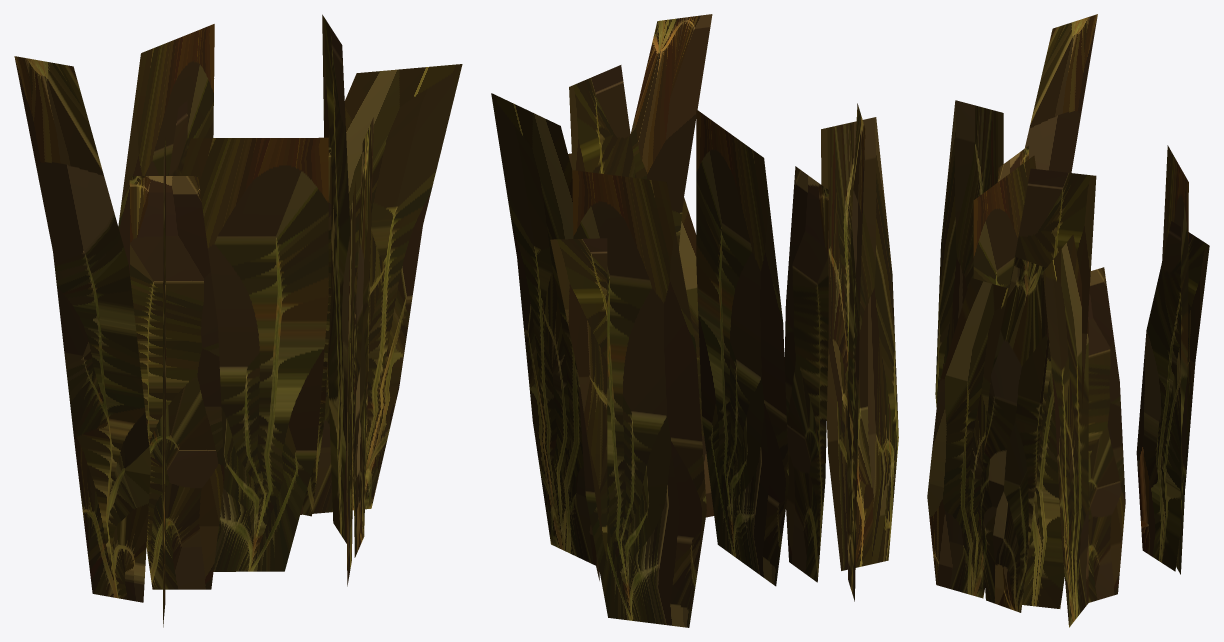
File: meadow_grass_001_b_LOD2.gltf
3 renders of one model, left to right at view 1: azimuth 30°, elevation 25°; view 2: azimuth 150°, elevation 25°; view 3: azimuth 270°, elevation 25°, orthographic. The views are drawn at different scales.
Visible parts, largest first — view 1: meadow_grass_001_b_LOD2; view 2: meadow_grass_001_b_LOD2; view 3: meadow_grass_001_b_LOD2.
Boxes of the visible parts, x1,y1,x2,y2 form: meadow_grass_001_b_LOD2: (14,14,462,627); meadow_grass_001_b_LOD2: (491,14,898,627); meadow_grass_001_b_LOD2: (927,14,1209,627).
Bounding box in the file's own units: 0.9353 × 1.13 × 0.6164.
Materials: 1 (1 with a texture image).
